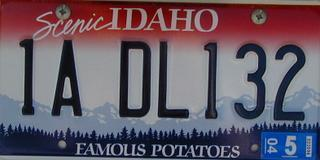placa de veiculo: (6, 1, 316, 158)
